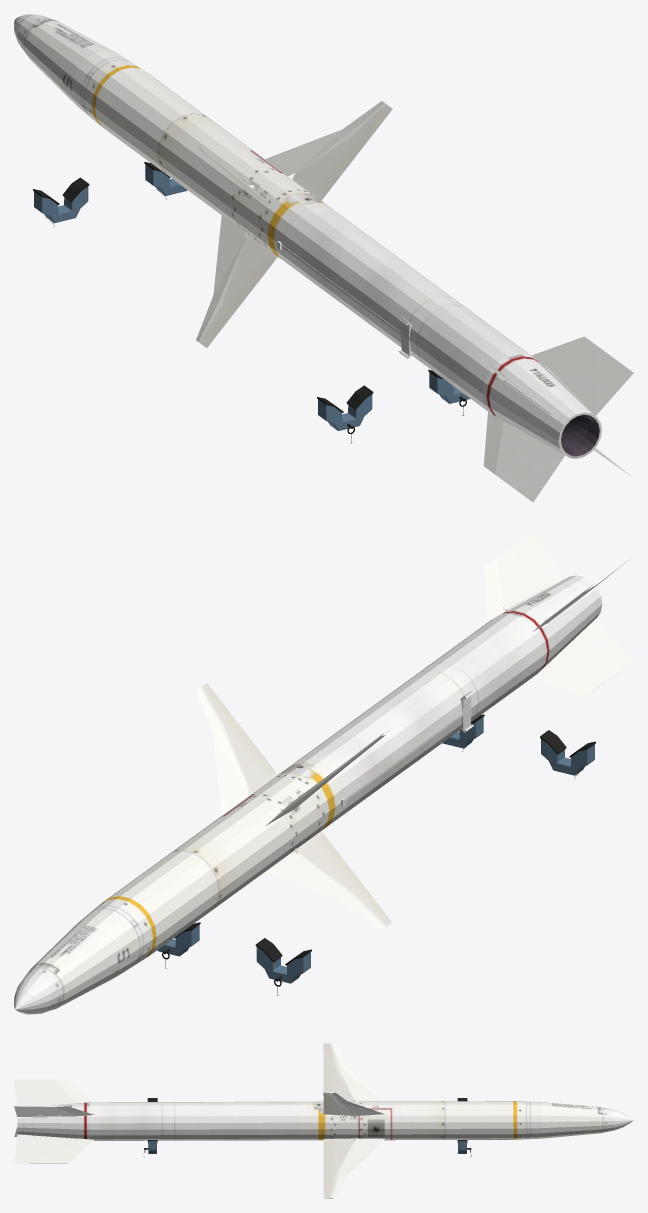
Rendered from w_agm88.glb.
3 views of the same model, one above another, from view 1: azimuth 30°, elevation 25°; view 2: azimuth 150°, elevation 25°; view 3: azimuth 270°, elevation 25° (orthographic). The views are drawn at different scales.
Parts seen in each view (by area): view 1: body|Tex_0271_0.png, body|material_3; view 2: body|Tex_0271_0.png, body|material_3; view 3: body|Tex_0271_0.png, body|material_3.
Part boxes in pixels (box(x1,y1,x2,y2)): body|Tex_0271_0.png: box(14, 14, 633, 502); body|material_3: box(33, 162, 470, 443); body|Tex_0271_0.png: box(14, 531, 633, 1014); body|material_3: box(157, 714, 595, 995); body|Tex_0271_0.png: box(14, 1043, 633, 1198); body|material_3: box(144, 1098, 471, 1157).
Bounding box in the file's own units: 0.9804 × 0.8031 × 4.22.
2 materials, 2 textured.
